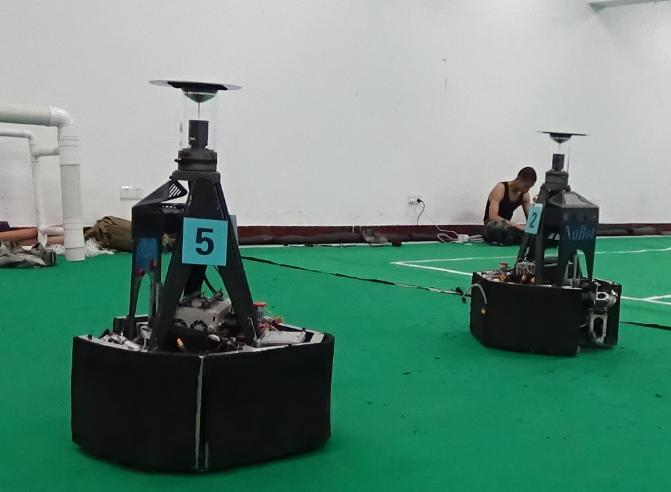robot: (64, 75, 337, 480), (466, 120, 625, 365)
